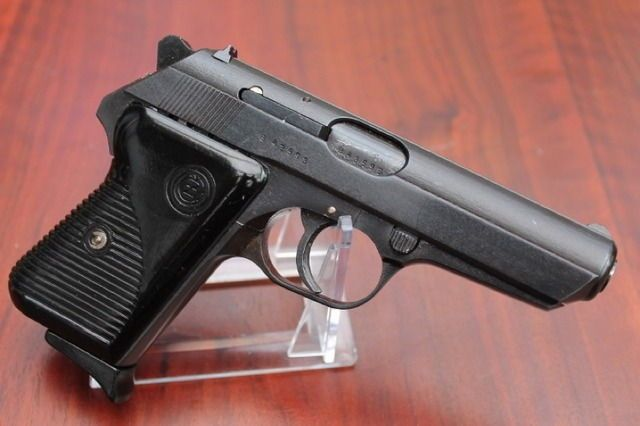gun: (2, 32, 630, 413)
